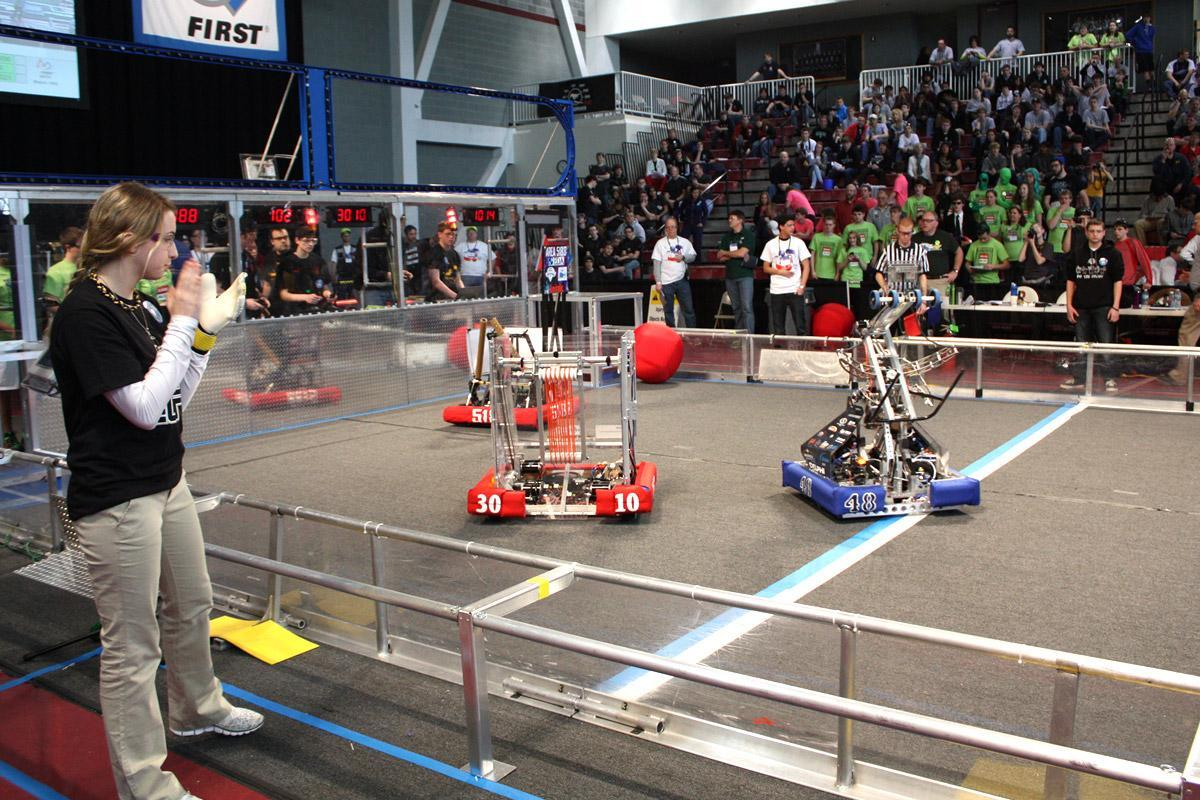robot: (771, 280, 987, 526), (467, 320, 667, 526), (431, 230, 584, 434)
